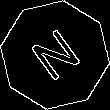N_SE: (24, 23, 86, 87)
